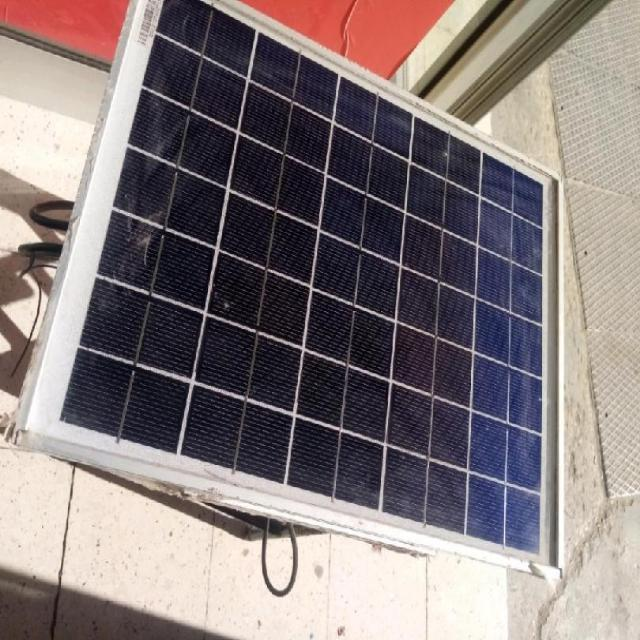faulty: (18, 0, 562, 576)
